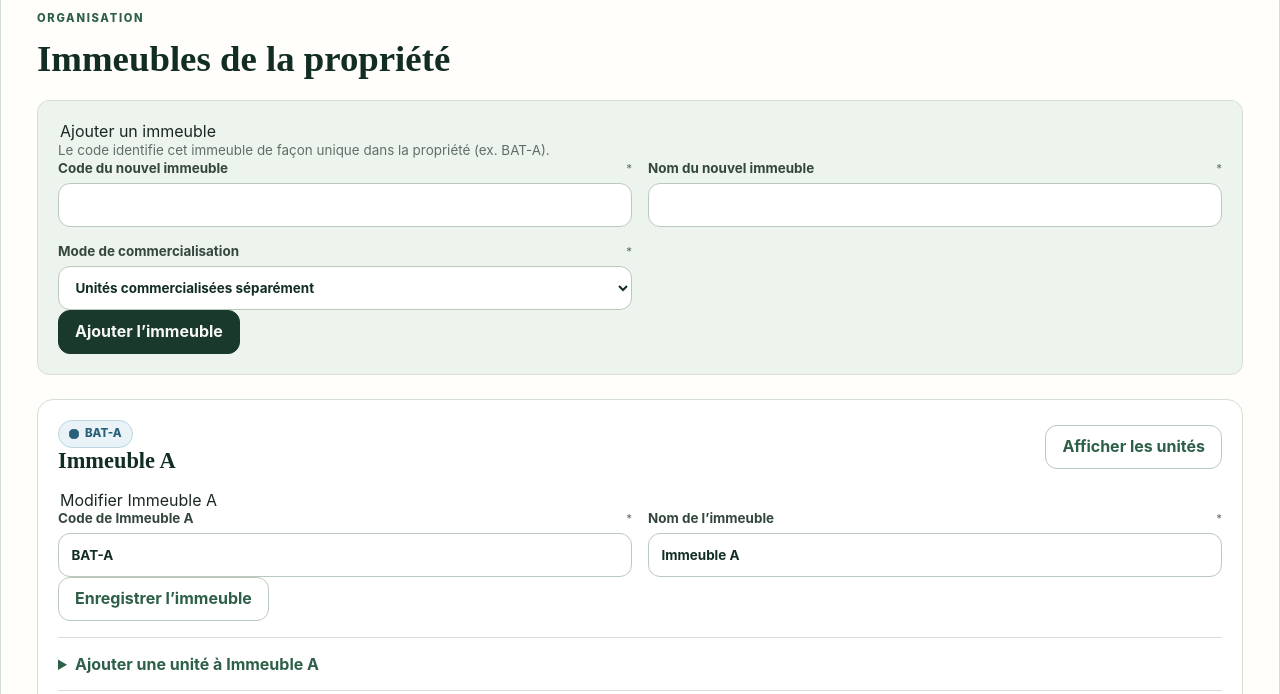
Test: Composition du bien Web › affiche le résumé français d’une Unit et son état vide
Expected: the element "Modifier Immeuble A" is shown, 58,490 -> 1222,621
Click the button "Afficher les unités": click(1134, 447) 1045,425 -> 1222,469
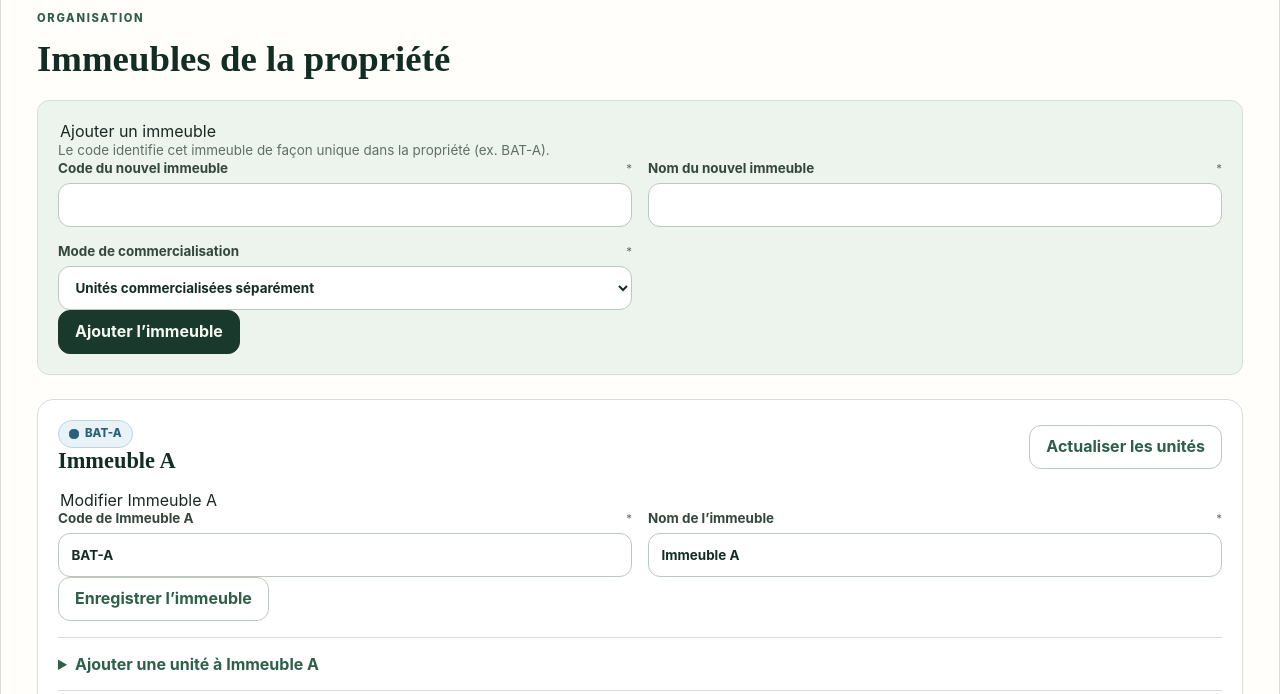
Click the button "Actualiser les unités": click(1126, 447) 1029,425 -> 1222,469
(page scrolled)
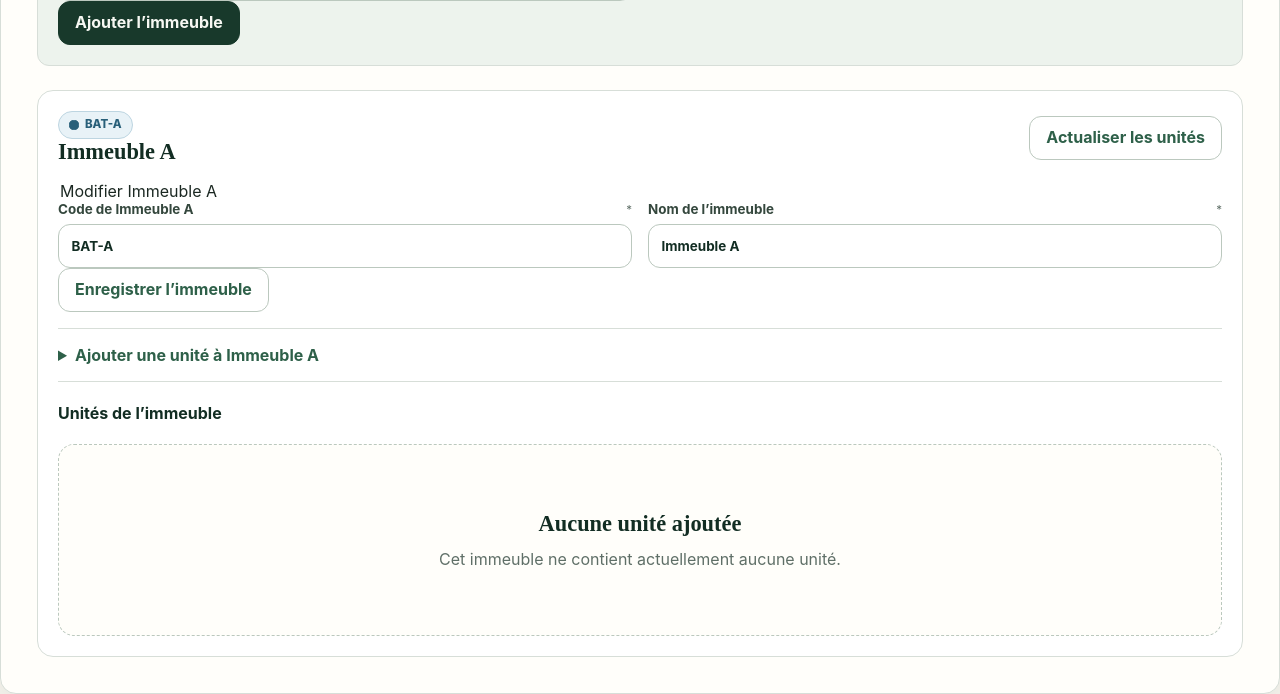
Result: the text "Cet immeuble ne contient actuellement aucune unité." is shown at 439,549 -> 841,569
